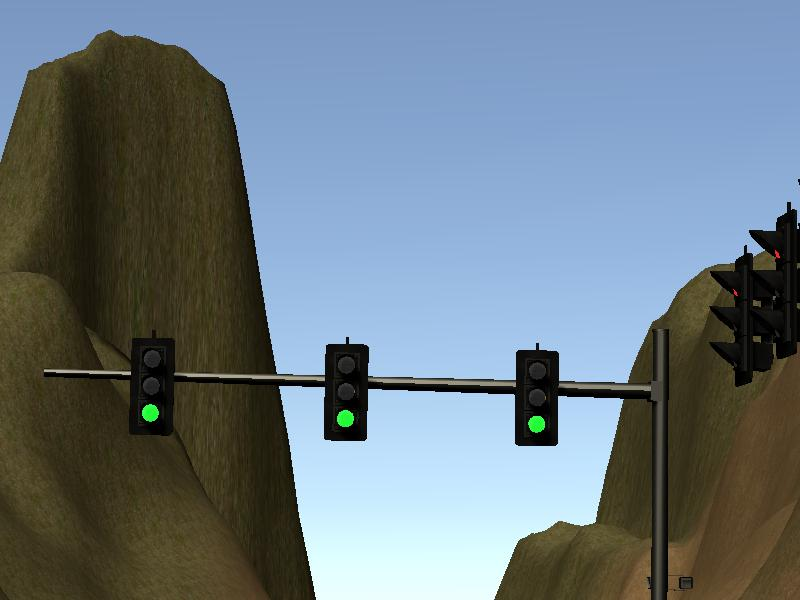Green: (516, 350, 557, 446), (131, 337, 171, 435), (326, 346, 367, 441)
